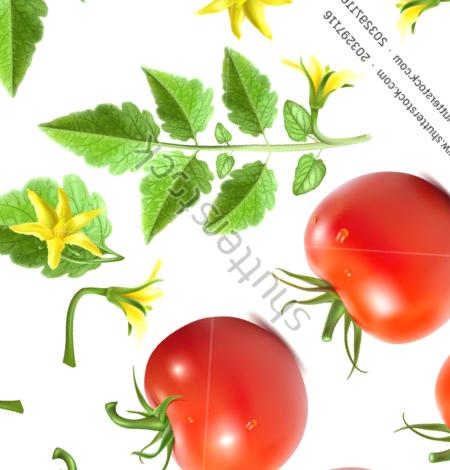Tomato leaf: (93, 114, 245, 264), (97, 13, 240, 164), (23, 63, 169, 210), (177, 137, 307, 263), (179, 23, 297, 145)
